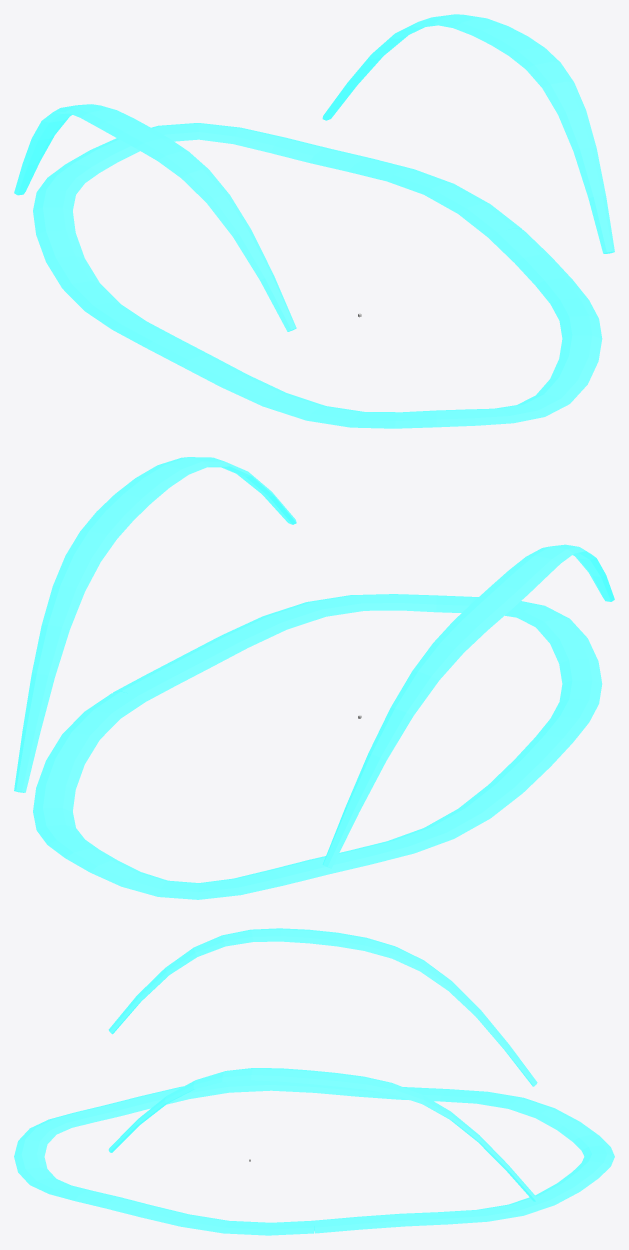
The model's file is AquarisBossFX.fbx.
The picture shows the model from 3 angles, top to bottom: view 1: azimuth 30°, elevation 25°; view 2: azimuth 150°, elevation 25°; view 3: azimuth 270°, elevation 25°; orthographic projection. The views are drawn at different scales.
Parts seen in each view (by area): view 1: AquarisBossFX_Ring.001, AquarisBossFX_StreamR.001, AquarisBossFX_StreamL.001; view 2: AquarisBossFX_Ring.001, AquarisBossFX_StreamR.001, AquarisBossFX_StreamL.001; view 3: AquarisBossFX_Ring.001, AquarisBossFX_StreamL.001, AquarisBossFX_StreamR.001.
Part boxes in pixels (box(x1,y1,x2,y2)): AquarisBossFX_Ring.001: box(33, 123, 602, 428); AquarisBossFX_StreamR.001: box(322, 14, 614, 253); AquarisBossFX_StreamL.001: box(14, 104, 296, 331); AquarisBossFX_Ring.001: box(33, 594, 602, 899); AquarisBossFX_StreamR.001: box(14, 457, 296, 792); AquarisBossFX_StreamL.001: box(322, 544, 614, 868); AquarisBossFX_Ring.001: box(14, 1080, 614, 1235); AquarisBossFX_StreamL.001: box(108, 928, 537, 1086); AquarisBossFX_StreamR.001: box(108, 1068, 537, 1201).
Bounding box in the file's own units: 359 × 174 × 590.
